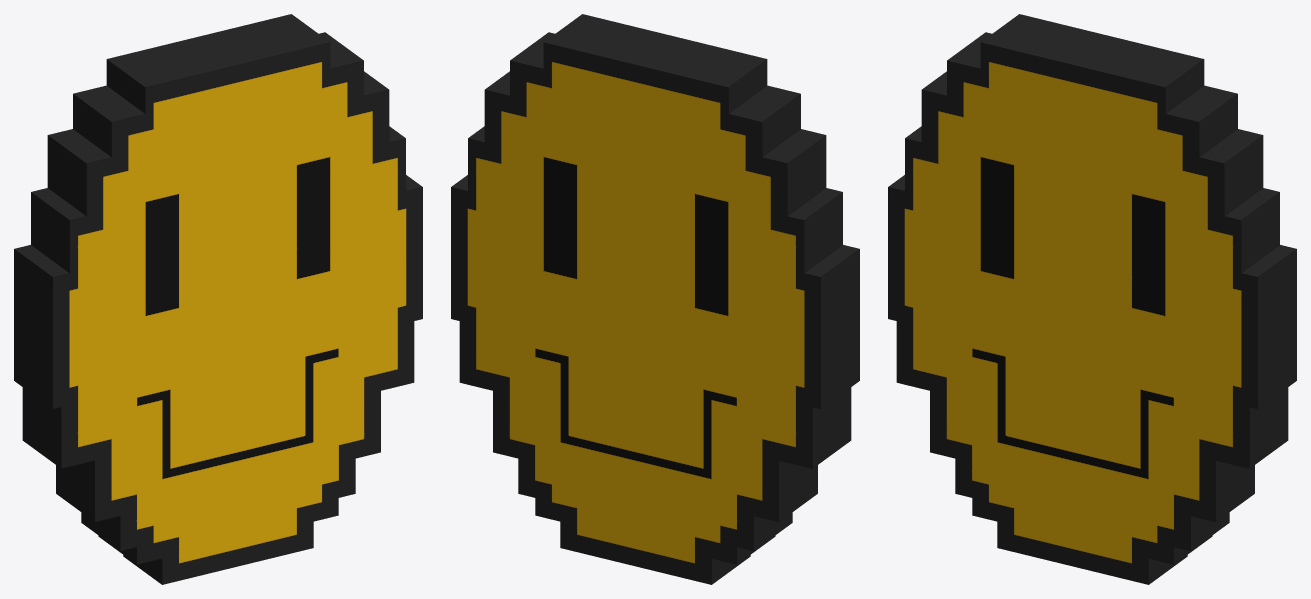
Rendered from Treasure_4.obj.
3 renders of one model, left to right at view 1: azimuth 30°, elevation 25°; view 2: azimuth 150°, elevation 25°; view 3: azimuth 330°, elevation 25°, orthographic.
Parts seen in each view (by area): view 1: Treasure_4; view 2: Treasure_4; view 3: Treasure_4.
Part boxes in pixels (x1,y1,x2,y2): Treasure_4: (14, 14, 422, 584); Treasure_4: (451, 14, 859, 584); Treasure_4: (888, 14, 1296, 584).
Size of the model in its own units: 4.4 by 5.7 by 0.8.
1 material, 1 textured.
